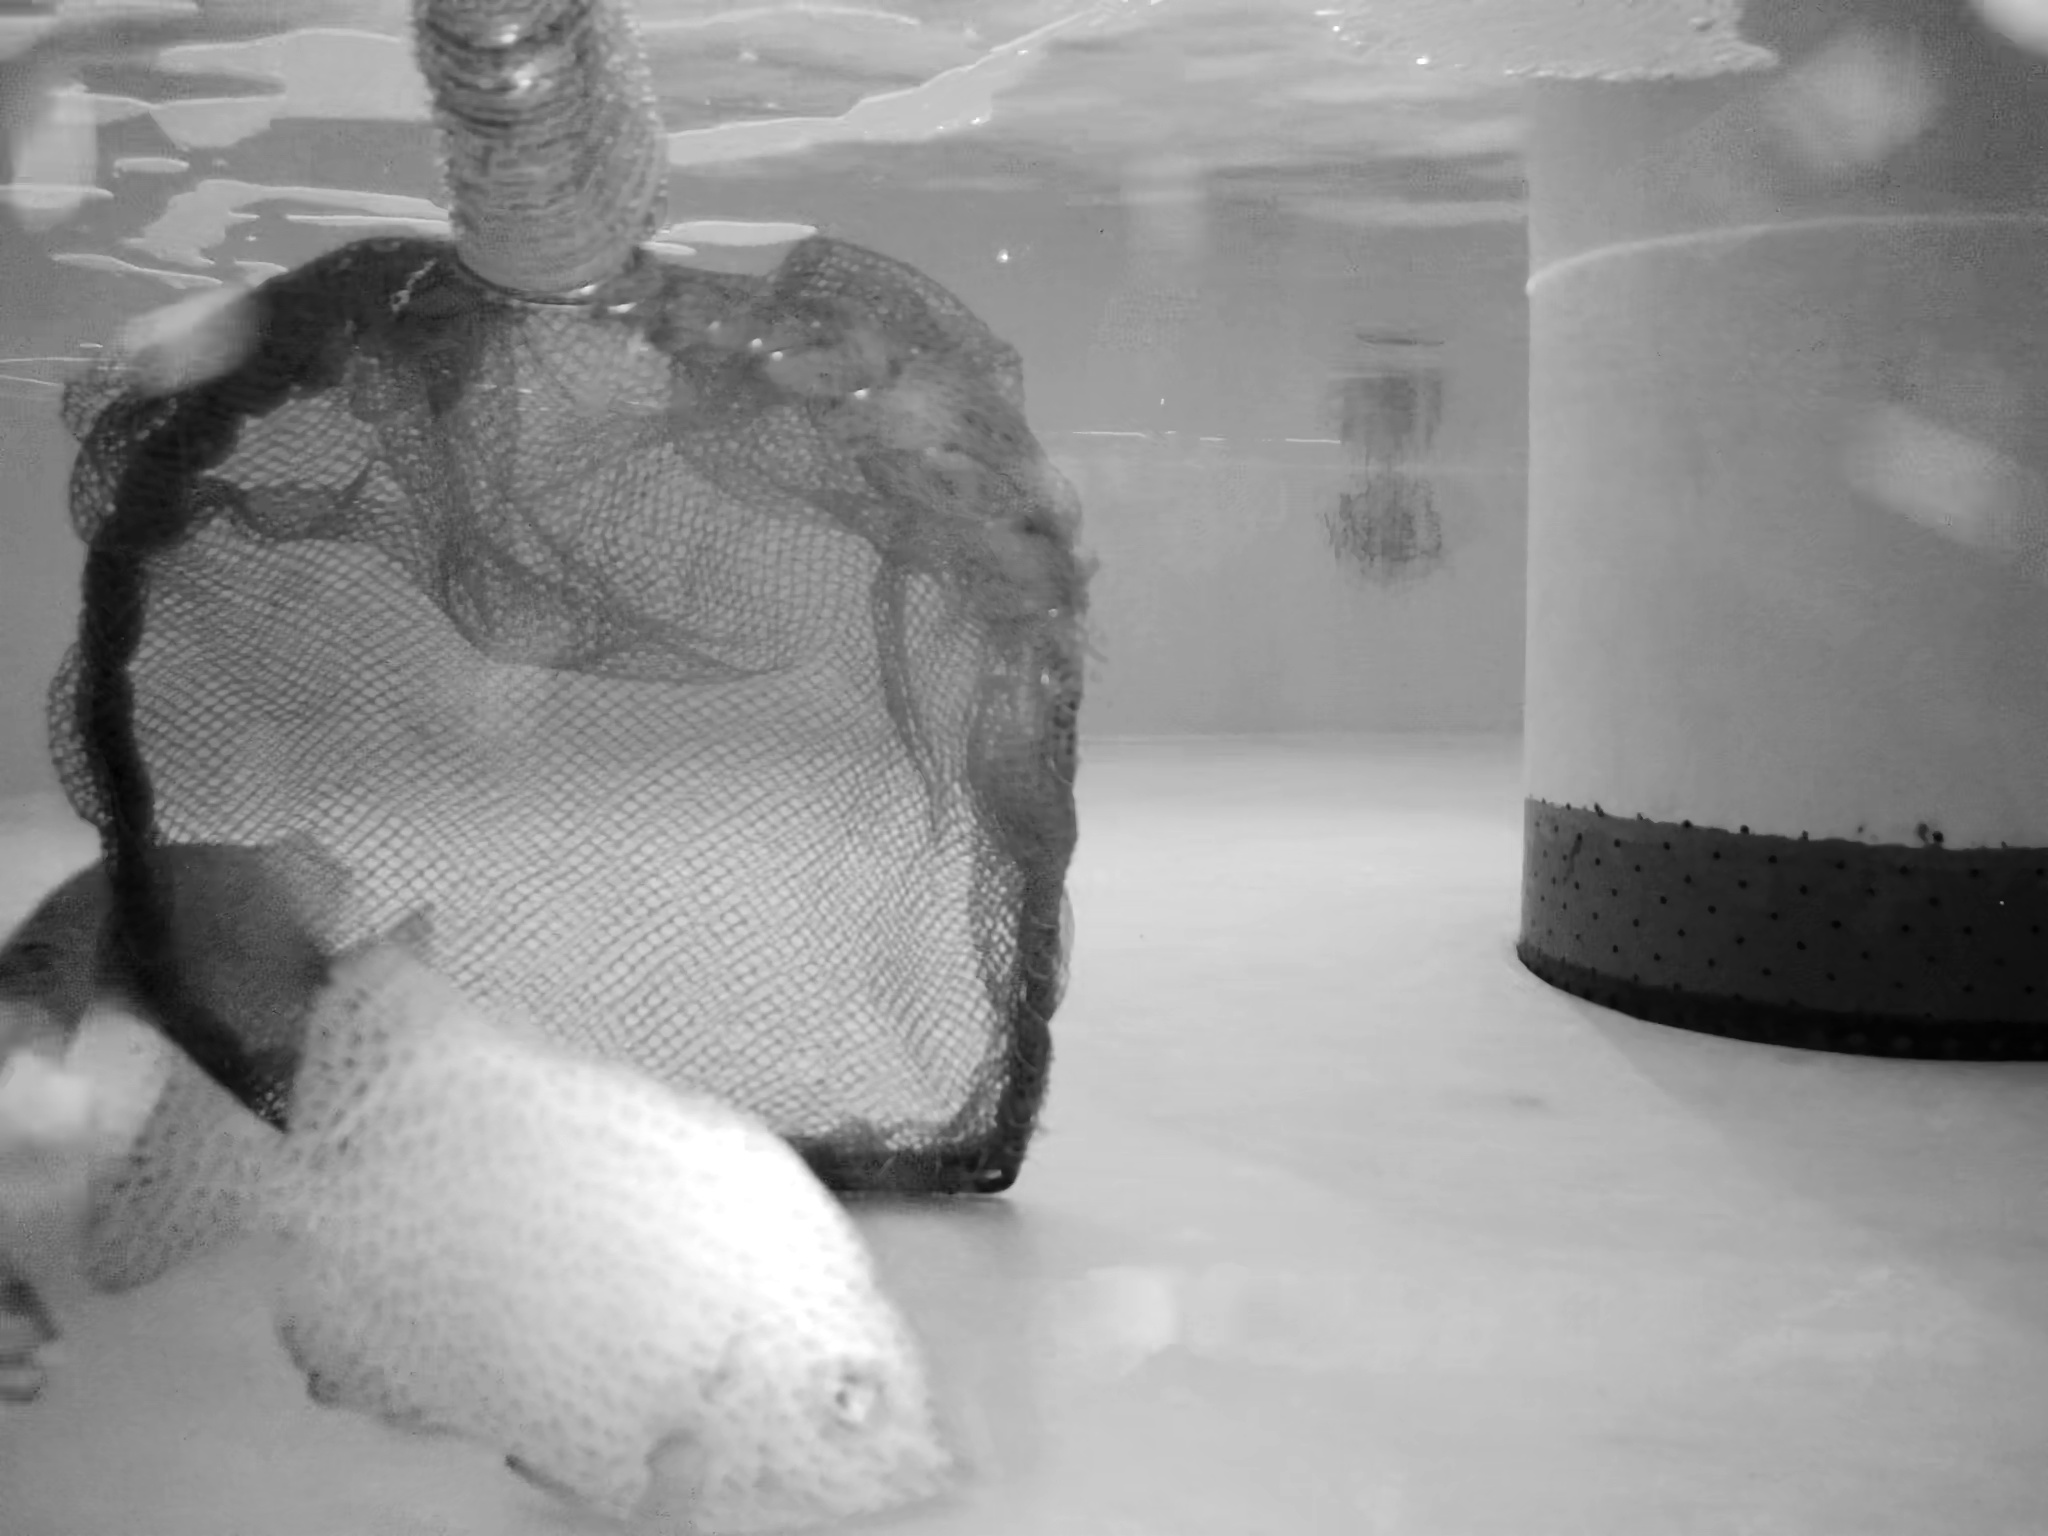fish: (89, 954, 950, 1531), (3, 837, 458, 1057)
